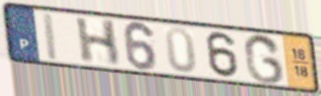0: (164, 26, 199, 76)
6: (204, 30, 240, 80), (123, 20, 157, 72)
G: (242, 32, 286, 86)
H: (73, 16, 122, 68)
I: (40, 10, 61, 63)
